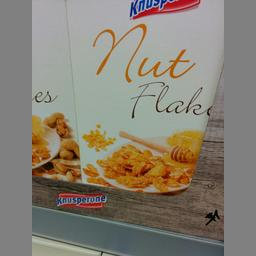cereal: (64, 0, 222, 195)
